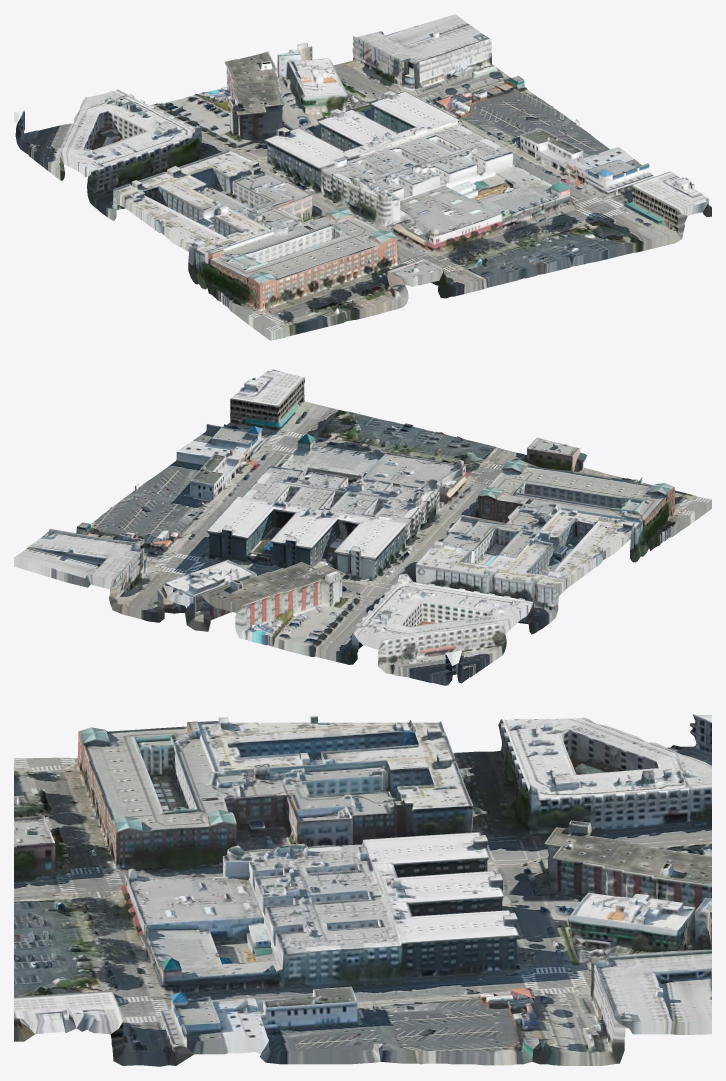
Rendered from z17-20965-50647-h0-yup-uvflip-v3-world.glb.
3 renders of one model, top to bottom at view 1: azimuth 30°, elevation 25°; view 2: azimuth 150°, elevation 25°; view 3: azimuth 270°, elevation 25°, orthographic. The views are drawn at different scales.
Size of the model in its own units: 241 by 24.96 by 243.
1 material, 1 textured.
